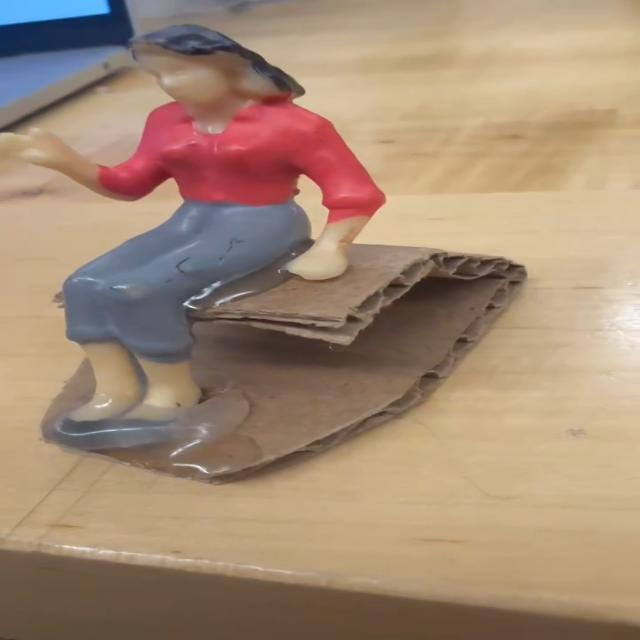Authorized: (20, 26, 421, 456)
